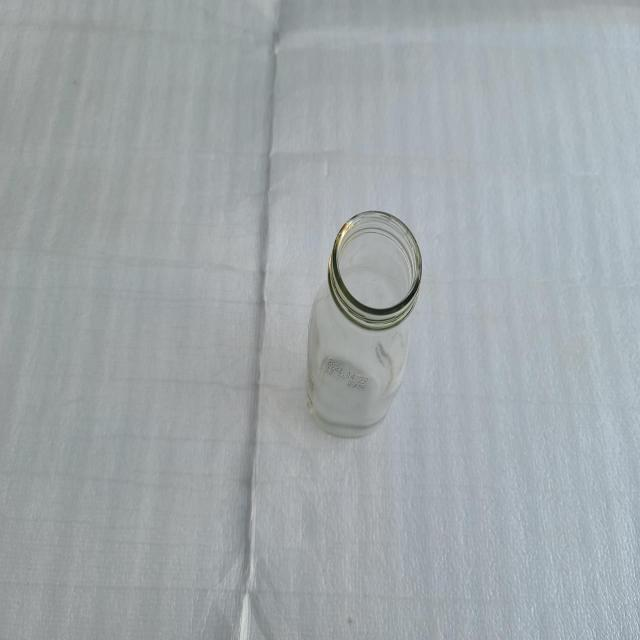glass: (306, 210, 422, 437)
